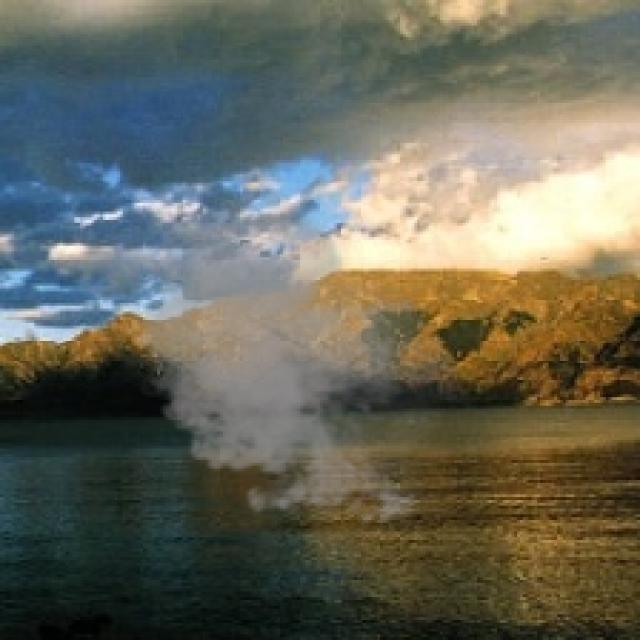Smoke: (114, 188, 477, 534)
